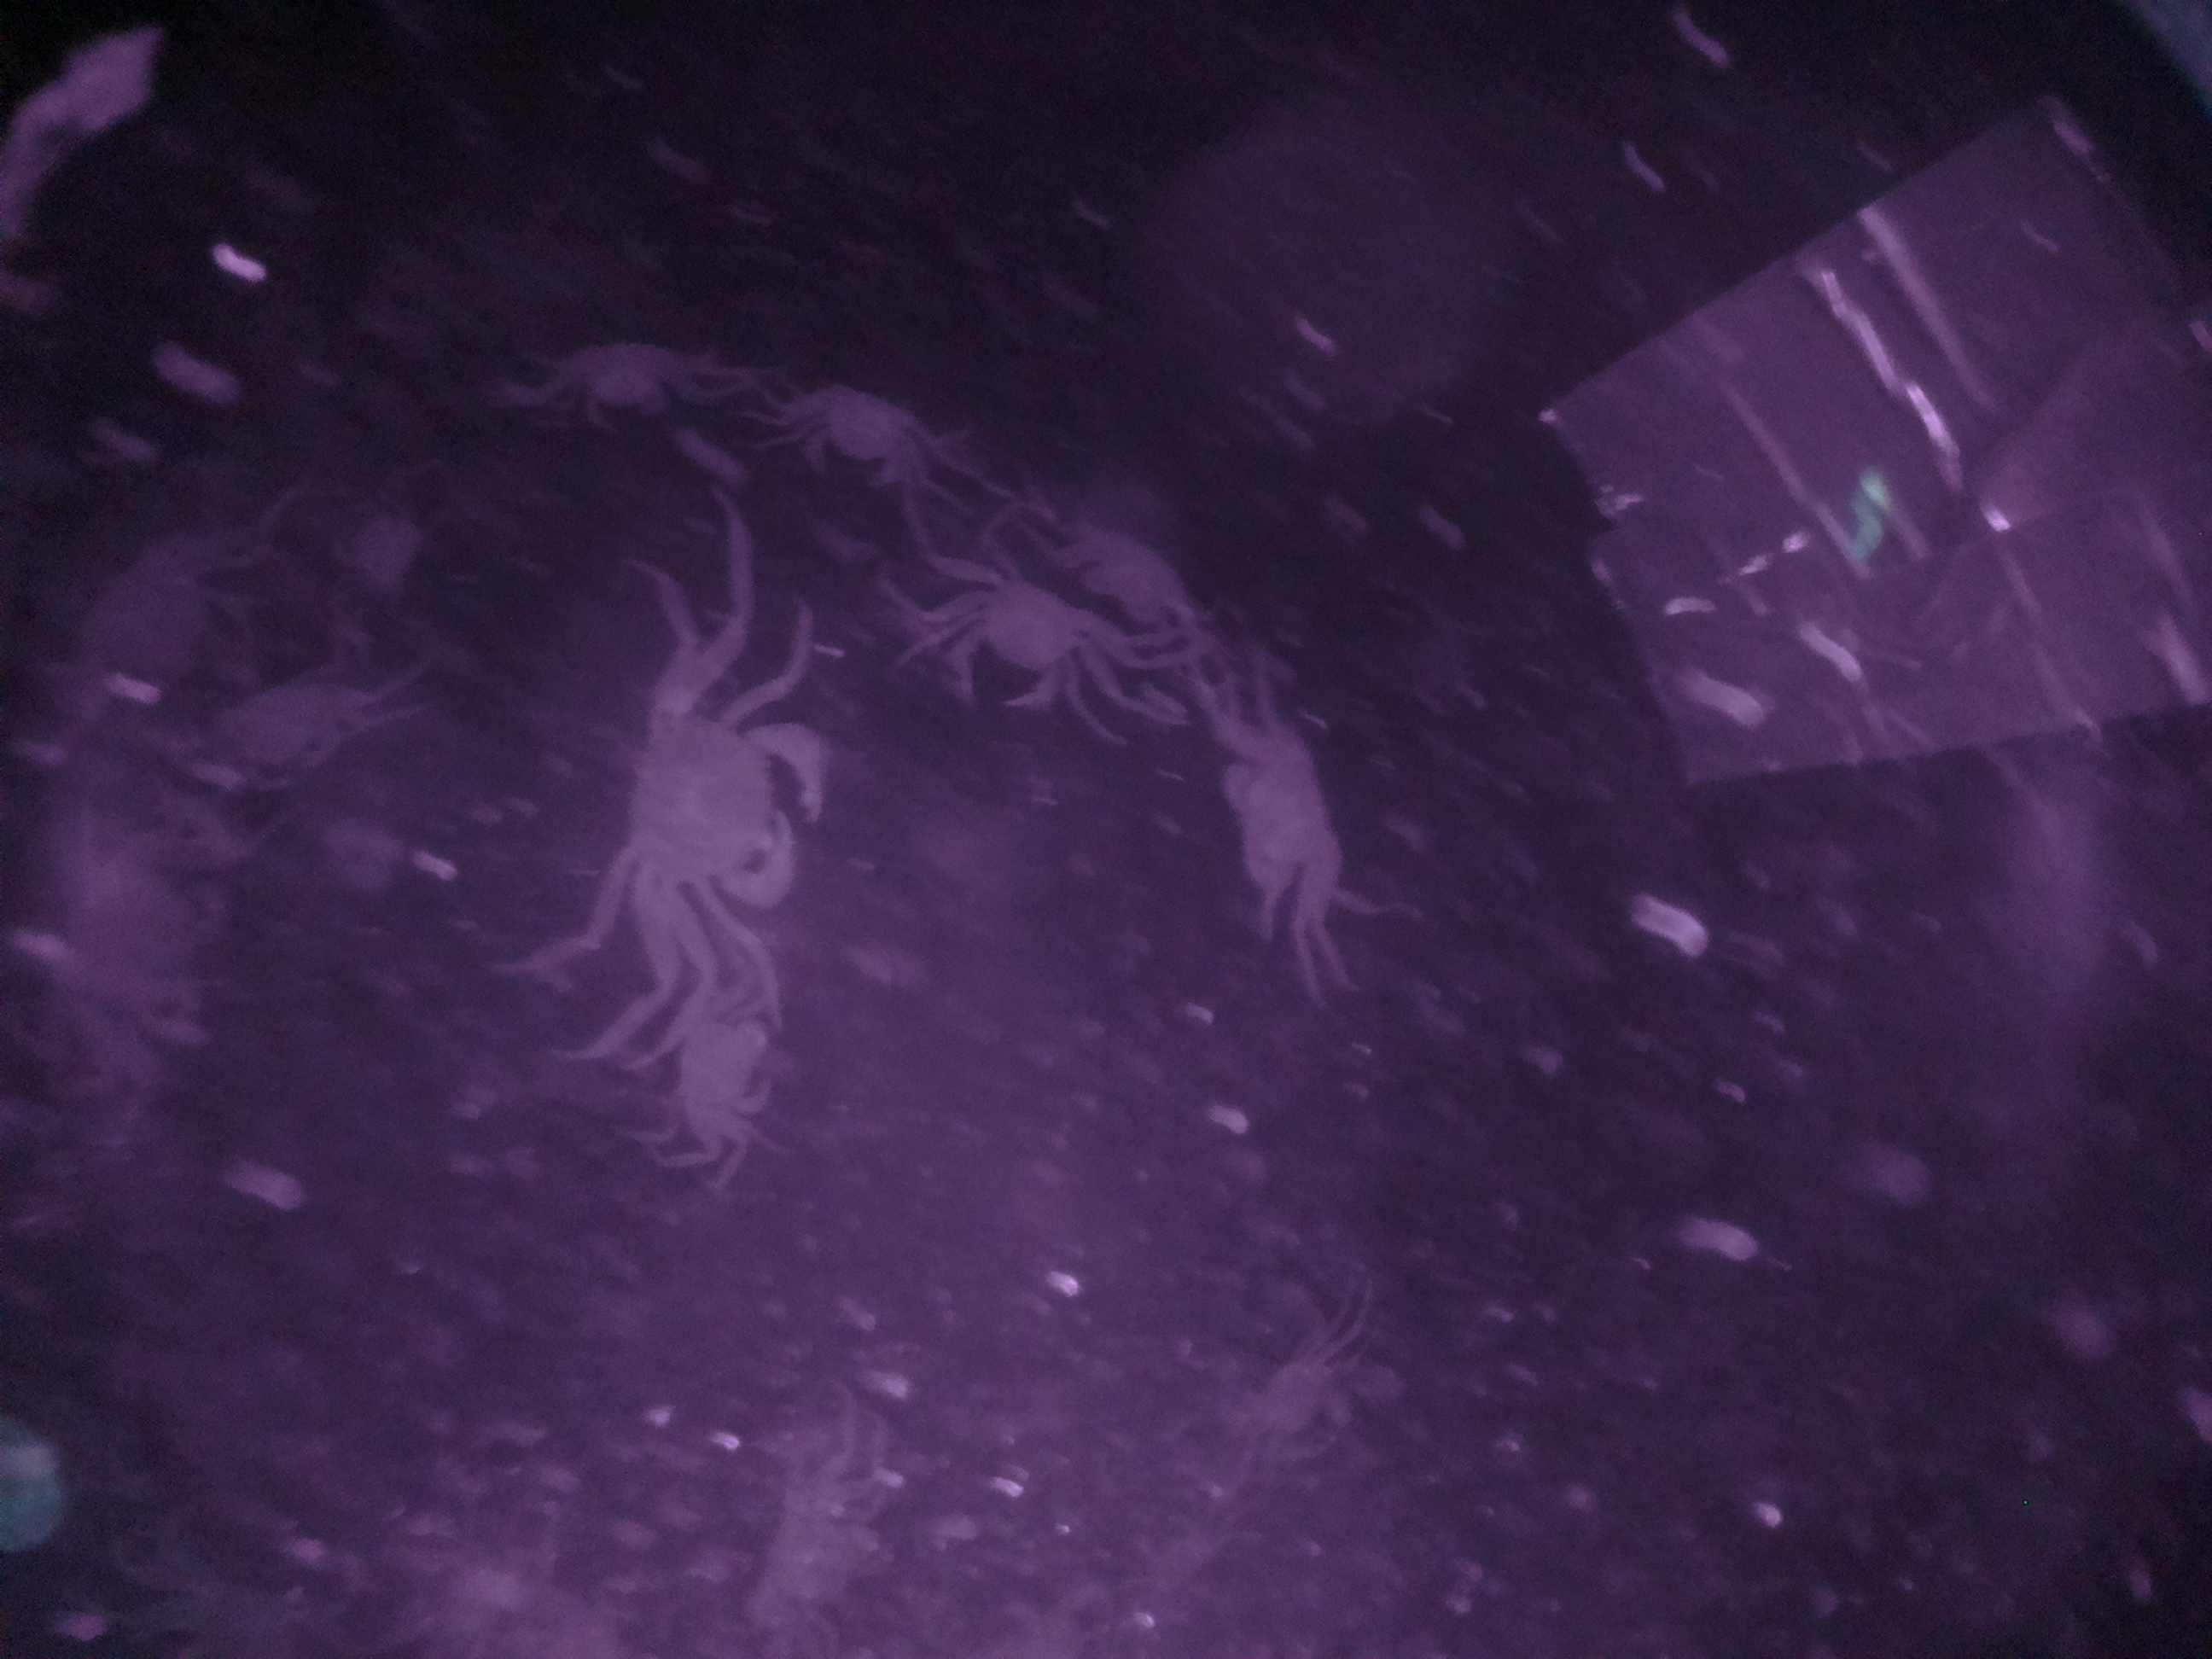Crab: (606, 680, 843, 946), (932, 565, 1111, 734), (768, 371, 948, 498), (664, 995, 784, 1155)
